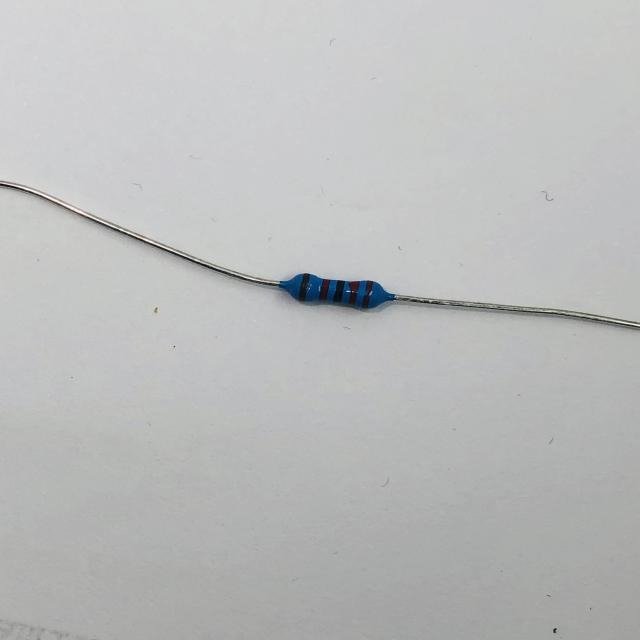Resistor: (279, 273, 395, 309)
black: (332, 280, 345, 303)
brown: (299, 273, 310, 302)
red: (361, 280, 374, 309), (348, 281, 360, 306), (319, 279, 331, 301)
